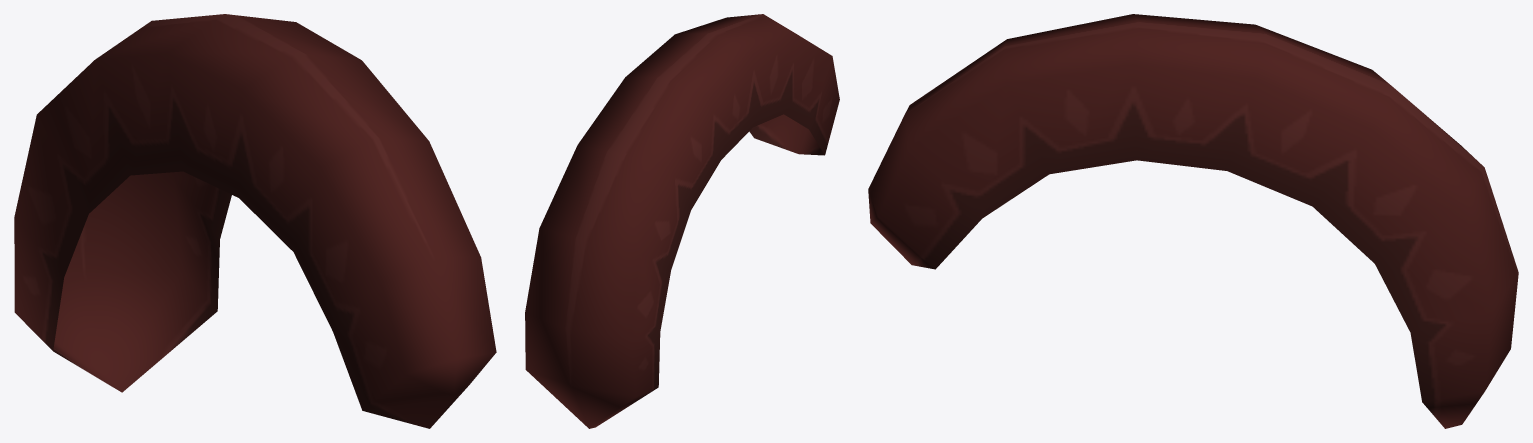
File: mod_char_hero_alena_hat.fbx
The picture shows the model from 3 angles, left to right: view 1: azimuth 30°, elevation 25°; view 2: azimuth 150°, elevation 25°; view 3: azimuth 270°, elevation 25°; orthographic projection. The views are drawn at different scales.
Parts seen in each view (by area): view 1: mod_char_hero_alena_hat; view 2: mod_char_hero_alena_hat; view 3: mod_char_hero_alena_hat.
Boxes of the visible parts, bbox=[...] form: mod_char_hero_alena_hat: bbox=[14, 14, 496, 428]; mod_char_hero_alena_hat: bbox=[525, 14, 839, 428]; mod_char_hero_alena_hat: bbox=[868, 14, 1518, 428].
Size of the model in its own units: 9.77 by 26.08 by 37.87.
